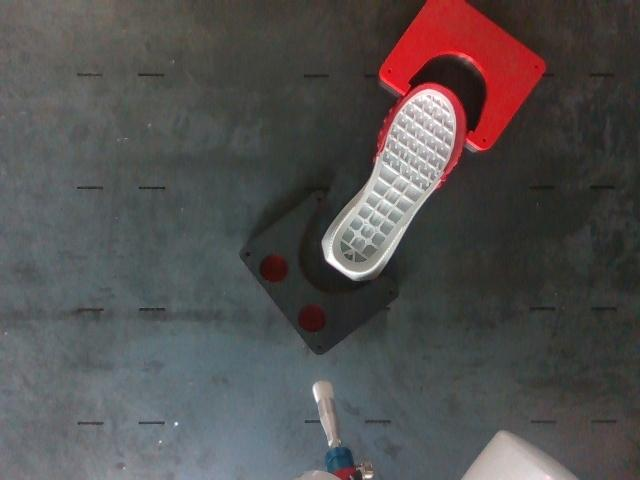shoes: (332, 84, 465, 273)
